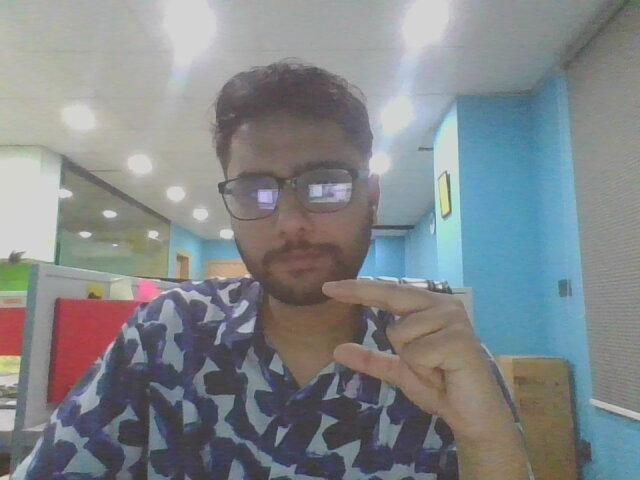no: (312, 272, 516, 433)
